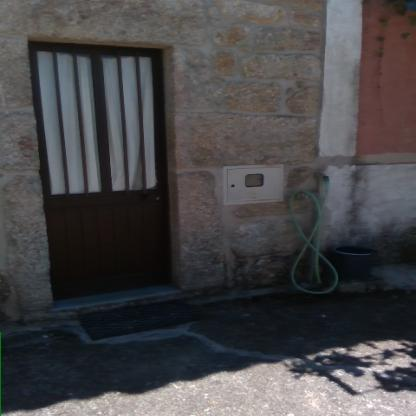closed: (17, 31, 201, 303)
